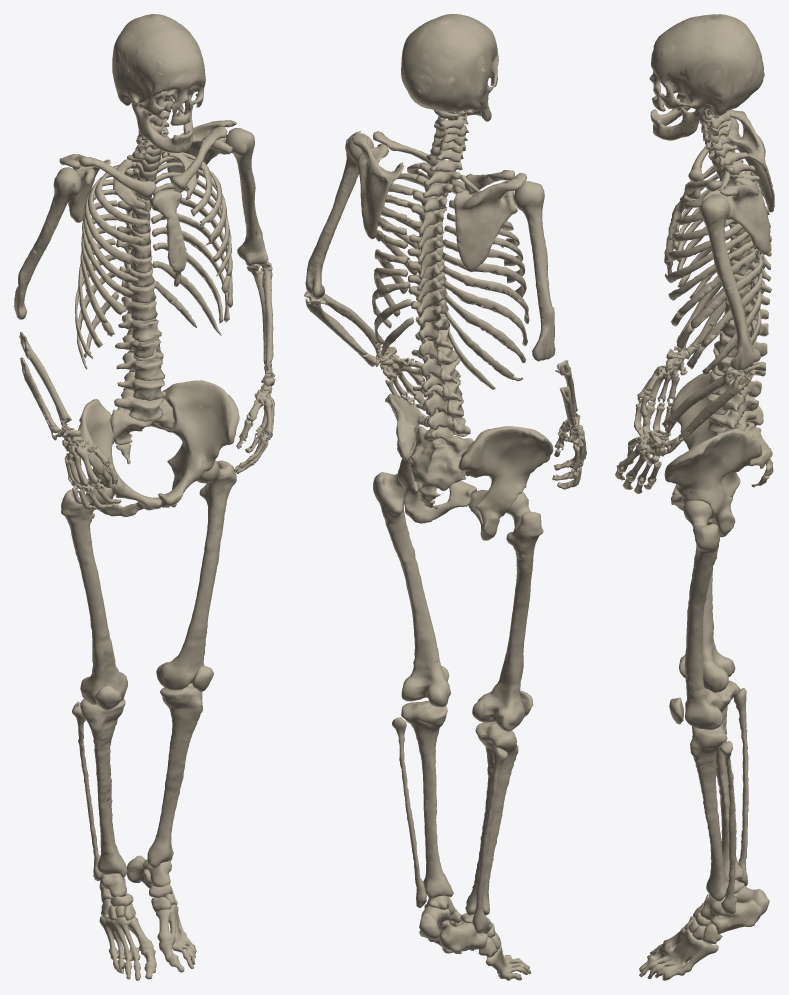
Rendered from vhf_denver_ct_adult_female.skeletal.LOD3.glb.
3 views of the same model, side by side, from view 1: azimuth 30°, elevation 25°; view 2: azimuth 150°, elevation 25°; view 3: azimuth 270°, elevation 25° (orthographic). The views are drawn at different scales.
Visible parts, largest first — view 1: VHF_DENVER_CT.ADULT.FEMALE.SKELETAL.SKULL_CRANIUM_AND_MANDIB, VHF_DENVER_CT.ADULT.FEMALE.SKELETAL.HIP_BONE_OS_COXAE.L, VHF_DENVER_CT.ADULT.FEMALE.SKELETAL.FEMUR.L, VHF_DENVER_CT.ADULT.FEMALE.SKELETAL.FEMUR.R, VHF_DENVER_CT.ADULT.FEMALE.SKELETAL.TIBIA.L, VHF_DENVER_CT.ADULT.FEMALE.SKELETAL.METATARSALS_AND_PHALANGE (×2), VHF_DENVER_CT.ADULT.FEMALE.SKELETAL.TIBIA.R, VHF_DENVER_CT.ADULT.FEMALE.SKELETAL.HIP_BONE_OS_COXAE.R, VHF_DENVER_CT.ADULT.FEMALE.SKELETAL.HAND_BONES.R, VHF_DENVER_CT.ADULT.FEMALE.SKELETAL.HUMERUS.L, VHF_DENVER_CT.ADULT.FEMALE.SKELETAL.HUMERUS.R, VHF_DENVER_CT.ADULT.FEMALE.SKELETAL.HAND_BONES.L (+25 smaller); view 2: VHF_DENVER_CT.ADULT.FEMALE.SKELETAL.SKULL_CRANIUM_AND_MANDIB, VHF_DENVER_CT.ADULT.FEMALE.SKELETAL.HIP_BONE_OS_COXAE.R, VHF_DENVER_CT.ADULT.FEMALE.SKELETAL.FEMUR.L, VHF_DENVER_CT.ADULT.FEMALE.SKELETAL.FEMUR.R, VHF_DENVER_CT.ADULT.FEMALE.SKELETAL.SCAPULA.R, VHF_DENVER_CT.ADULT.FEMALE.SKELETAL.TIBIA.L, VHF_DENVER_CT.ADULT.FEMALE.SKELETAL.HIP_BONE_OS_COXAE.L, VHF_DENVER_CT.ADULT.FEMALE.SKELETAL.TIBIA.R, VHF_DENVER_CT.ADULT.FEMALE.SKELETAL.HUMERUS.R, VHF_DENVER_CT.ADULT.FEMALE.SKELETAL.SACRUM, VHF_DENVER_CT.ADULT.FEMALE.SKELETAL.SCAPULA.L, VHF_DENVER_CT.ADULT.FEMALE.SKELETAL.HUMERUS.L (+18 smaller); view 3: VHF_DENVER_CT.ADULT.FEMALE.SKELETAL.SKULL_CRANIUM_AND_MANDIB, VHF_DENVER_CT.ADULT.FEMALE.SKELETAL.FEMUR.L, VHF_DENVER_CT.ADULT.FEMALE.SKELETAL.HIP_BONE_OS_COXAE.L, VHF_DENVER_CT.ADULT.FEMALE.SKELETAL.HUMERUS.L, VHF_DENVER_CT.ADULT.FEMALE.SKELETAL.TIBIA.L, VHF_DENVER_CT.ADULT.FEMALE.SKELETAL.HAND_BONES.R, VHF_DENVER_CT.ADULT.FEMALE.SKELETAL.SCAPULA.L, VHF_DENVER_CT.ADULT.FEMALE.SKELETAL.METATARSALS_AND_PHALANGE, VHF_DENVER_CT.ADULT.FEMALE.SKELETAL.HAND_BONES.L, VHF_DENVER_CT.ADULT.FEMALE.SKELETAL.HIP_BONE_OS_COXAE.R, VHF_DENVER_CT.ADULT.FEMALE.SKELETAL.FEMUR.R, VHF_DENVER_CT.ADULT.FEMALE.SKELETAL.SCAPULA.R (+25 smaller).
Part boxes in pixels (bbox=[...]): VHF_DENVER_CT.ADULT.FEMALE.SKELETAL.SKULL_CRANIUM_AND_MANDIB: bbox=[112, 14, 205, 152]; VHF_DENVER_CT.ADULT.FEMALE.SKELETAL.HIP_BONE_OS_COXAE.L: bbox=[158, 380, 239, 507]; VHF_DENVER_CT.ADULT.FEMALE.SKELETAL.FEMUR.L: bbox=[156, 460, 236, 690]; VHF_DENVER_CT.ADULT.FEMALE.SKELETAL.FEMUR.R: bbox=[61, 484, 127, 704]; VHF_DENVER_CT.ADULT.FEMALE.SKELETAL.TIBIA.L: bbox=[147, 683, 202, 867]; VHF_DENVER_CT.ADULT.FEMALE.SKELETAL.METATARSALS_AND_PHALANGE (×2): bbox=[99, 904, 196, 980]; VHF_DENVER_CT.ADULT.FEMALE.SKELETAL.TIBIA.R: bbox=[80, 699, 127, 877]; VHF_DENVER_CT.ADULT.FEMALE.SKELETAL.HIP_BONE_OS_COXAE.R: bbox=[78, 399, 162, 516]; VHF_DENVER_CT.ADULT.FEMALE.SKELETAL.HAND_BONES.R: bbox=[48, 425, 121, 509]; VHF_DENVER_CT.ADULT.FEMALE.SKELETAL.HUMERUS.L: bbox=[225, 128, 268, 266]; VHF_DENVER_CT.ADULT.FEMALE.SKELETAL.HUMERUS.R: bbox=[14, 167, 81, 319]; VHF_DENVER_CT.ADULT.FEMALE.SKELETAL.HAND_BONES.L: bbox=[233, 365, 275, 473]; VHF_DENVER_CT.ADULT.FEMALE.SKELETAL.SKULL_CRANIUM_AND_MANDIB: bbox=[401, 14, 498, 121]; VHF_DENVER_CT.ADULT.FEMALE.SKELETAL.HIP_BONE_OS_COXAE.R: bbox=[458, 426, 553, 540]; VHF_DENVER_CT.ADULT.FEMALE.SKELETAL.FEMUR.L: bbox=[373, 472, 450, 707]; VHF_DENVER_CT.ADULT.FEMALE.SKELETAL.FEMUR.R: bbox=[472, 492, 543, 731]; VHF_DENVER_CT.ADULT.FEMALE.SKELETAL.SCAPULA.R: bbox=[453, 173, 526, 271]; VHF_DENVER_CT.ADULT.FEMALE.SKELETAL.TIBIA.L: bbox=[401, 700, 453, 898]; VHF_DENVER_CT.ADULT.FEMALE.SKELETAL.HIP_BONE_OS_COXAE.L: bbox=[385, 393, 476, 523]; VHF_DENVER_CT.ADULT.FEMALE.SKELETAL.TIBIA.R: bbox=[465, 721, 518, 915]; VHF_DENVER_CT.ADULT.FEMALE.SKELETAL.HUMERUS.R: bbox=[514, 181, 555, 361]; VHF_DENVER_CT.ADULT.FEMALE.SKELETAL.SACRUM: bbox=[410, 426, 473, 501]; VHF_DENVER_CT.ADULT.FEMALE.SKELETAL.SCAPULA.L: bbox=[352, 131, 404, 239]; VHF_DENVER_CT.ADULT.FEMALE.SKELETAL.HUMERUS.L: bbox=[305, 133, 373, 299]; VHF_DENVER_CT.ADULT.FEMALE.SKELETAL.SKULL_CRANIUM_AND_MANDIB: bbox=[649, 14, 764, 140]; VHF_DENVER_CT.ADULT.FEMALE.SKELETAL.FEMUR.L: bbox=[683, 500, 723, 729]; VHF_DENVER_CT.ADULT.FEMALE.SKELETAL.HIP_BONE_OS_COXAE.L: bbox=[664, 428, 761, 537]; VHF_DENVER_CT.ADULT.FEMALE.SKELETAL.HUMERUS.L: bbox=[699, 195, 760, 370]; VHF_DENVER_CT.ADULT.FEMALE.SKELETAL.TIBIA.L: bbox=[690, 723, 728, 901]; VHF_DENVER_CT.ADULT.FEMALE.SKELETAL.HAND_BONES.R: bbox=[634, 346, 697, 436]; VHF_DENVER_CT.ADULT.FEMALE.SKELETAL.SCAPULA.L: bbox=[701, 177, 770, 254]; VHF_DENVER_CT.ADULT.FEMALE.SKELETAL.METATARSALS_AND_PHALANGE: bbox=[639, 926, 718, 980]; VHF_DENVER_CT.ADULT.FEMALE.SKELETAL.HAND_BONES.L: bbox=[615, 430, 683, 493]; VHF_DENVER_CT.ADULT.FEMALE.SKELETAL.HIP_BONE_OS_COXAE.R: bbox=[670, 372, 763, 497]; VHF_DENVER_CT.ADULT.FEMALE.SKELETAL.FEMUR.R: bbox=[702, 519, 735, 692]; VHF_DENVER_CT.ADULT.FEMALE.SKELETAL.SCAPULA.R: bbox=[726, 109, 774, 212].
Size of the model in its own units: 0.4783 by 1.71 by 0.258.
